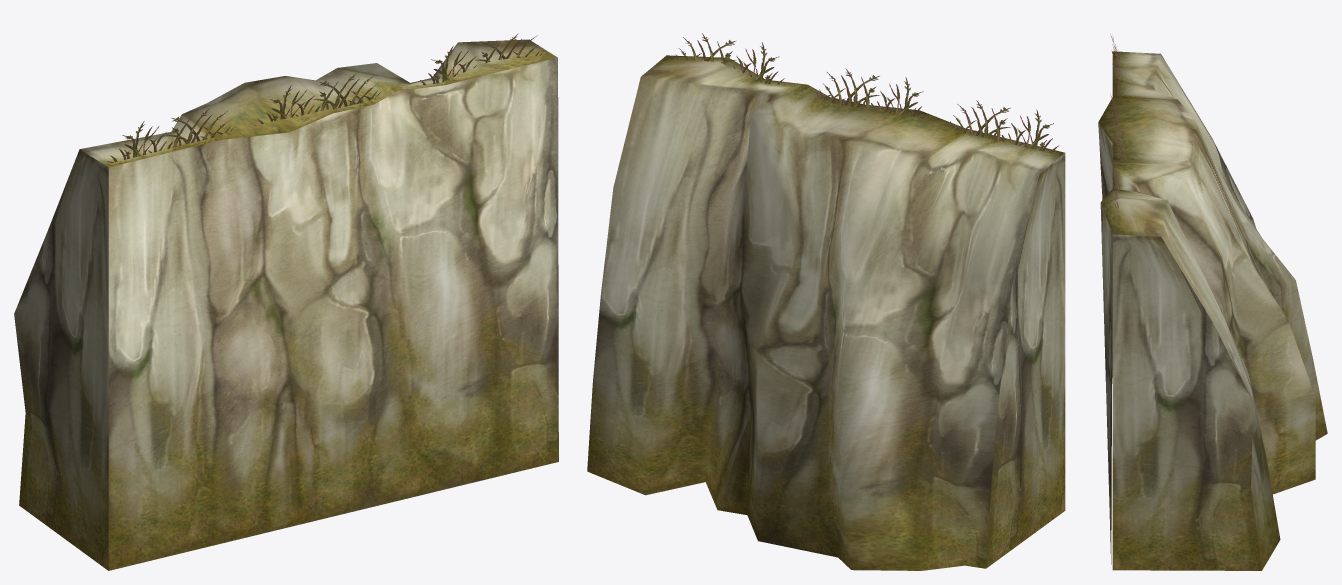
Rendered from a_SWCwallA01.glb.
The picture shows the model from 3 angles, left to right: view 1: azimuth 30°, elevation 25°; view 2: azimuth 150°, elevation 25°; view 3: azimuth 270°, elevation 25°; orthographic projection. The views are drawn at different scales.
Visible parts, largest first — view 1: a_SWCwallA01; view 2: a_SWCwallA01; view 3: a_SWCwallA01.
Boxes of the visible parts, box(x1,y1,x2,y2) form: a_SWCwallA01: box(14, 33, 558, 570); a_SWCwallA01: box(587, 33, 1065, 570); a_SWCwallA01: box(1098, 34, 1327, 570).
Bounding box in the file's own units: 4.09 × 3.83 × 2.12.
Materials: 2 (2 with a texture image).
